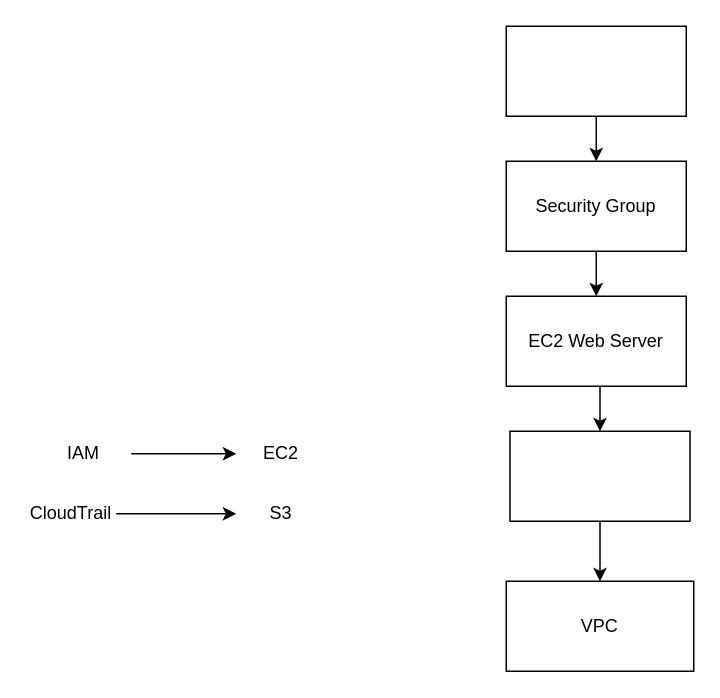
This 720x698 diagram has some shape labels left out. The shapes that lost their labels are listed below. From the top down, each one's centre as x and y in pixels, then its label:
the point at 595,70: Internet
the point at 599,475: Public Subnet
